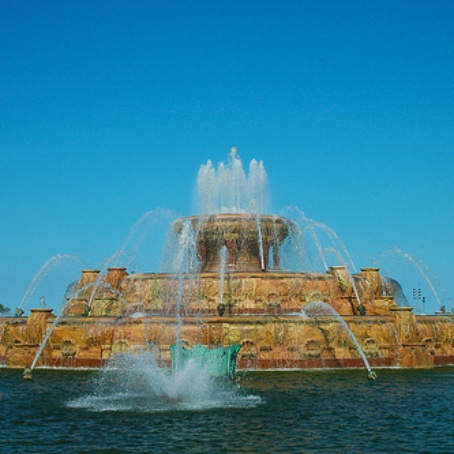fountain: (1, 133, 454, 367)
river: (4, 371, 454, 454)
sky: (1, 1, 454, 257)
